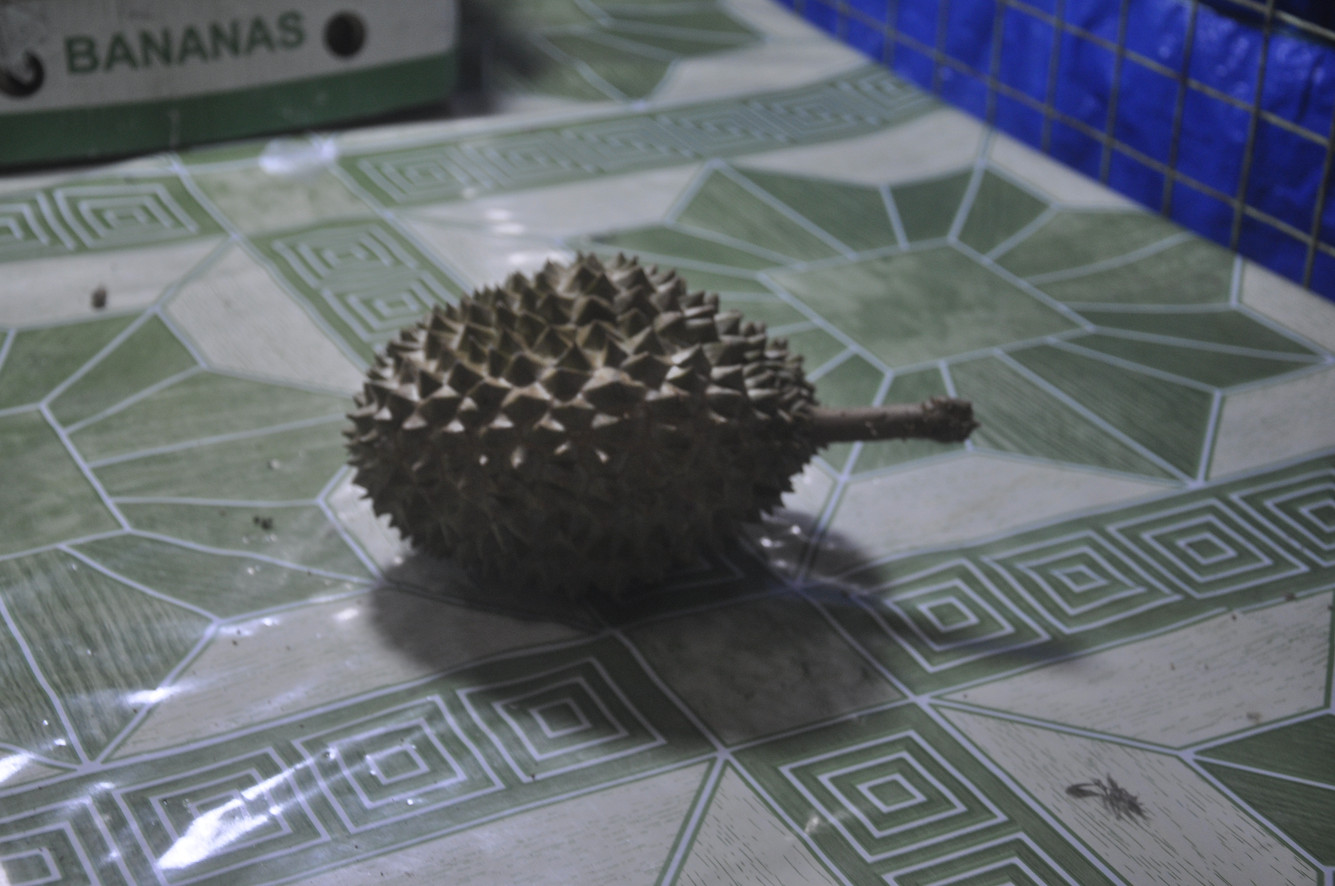mature: (345, 255, 974, 593)
